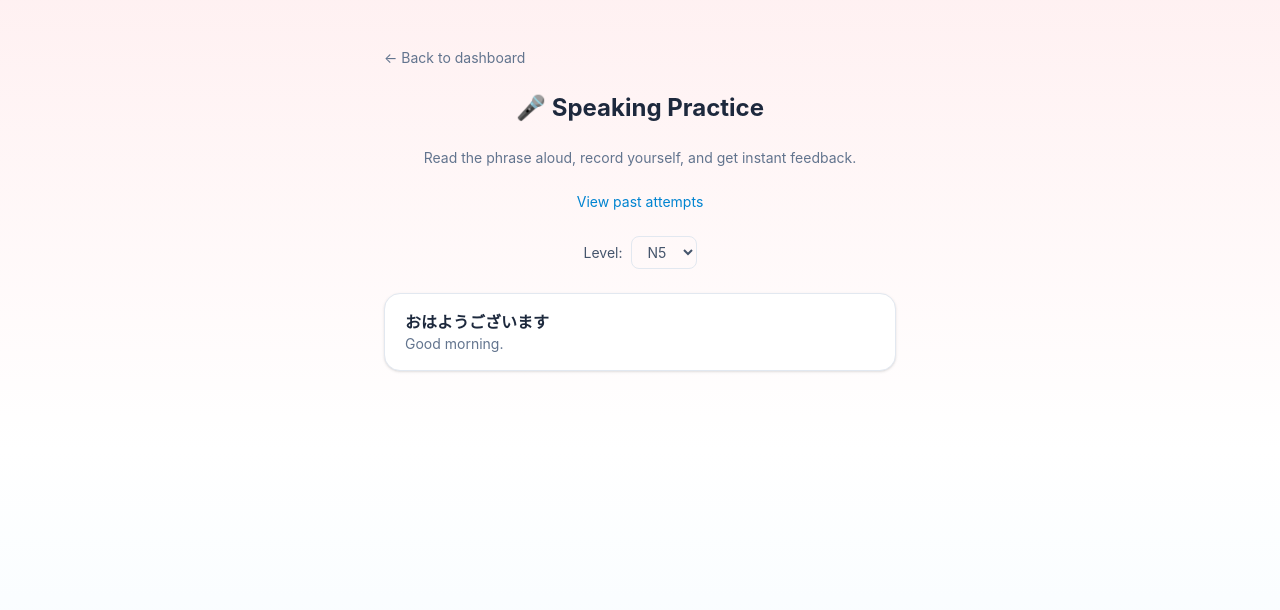
Test: SpeakingPracticePage › shows an error message when submission fails
This screenshot has width=1280, height=610.
Click the text "Good morning.".
click(454, 344)  # box [405,335,504,352]
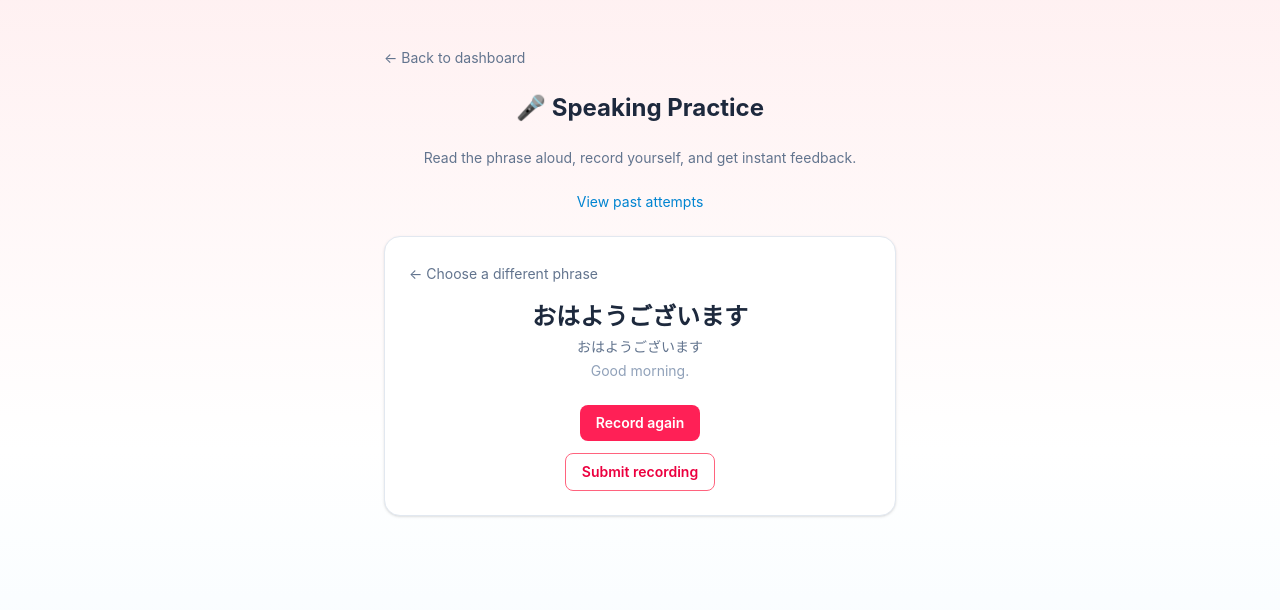
Click the button "Submit recording".
click(640, 472)  # box [565,453,715,491]
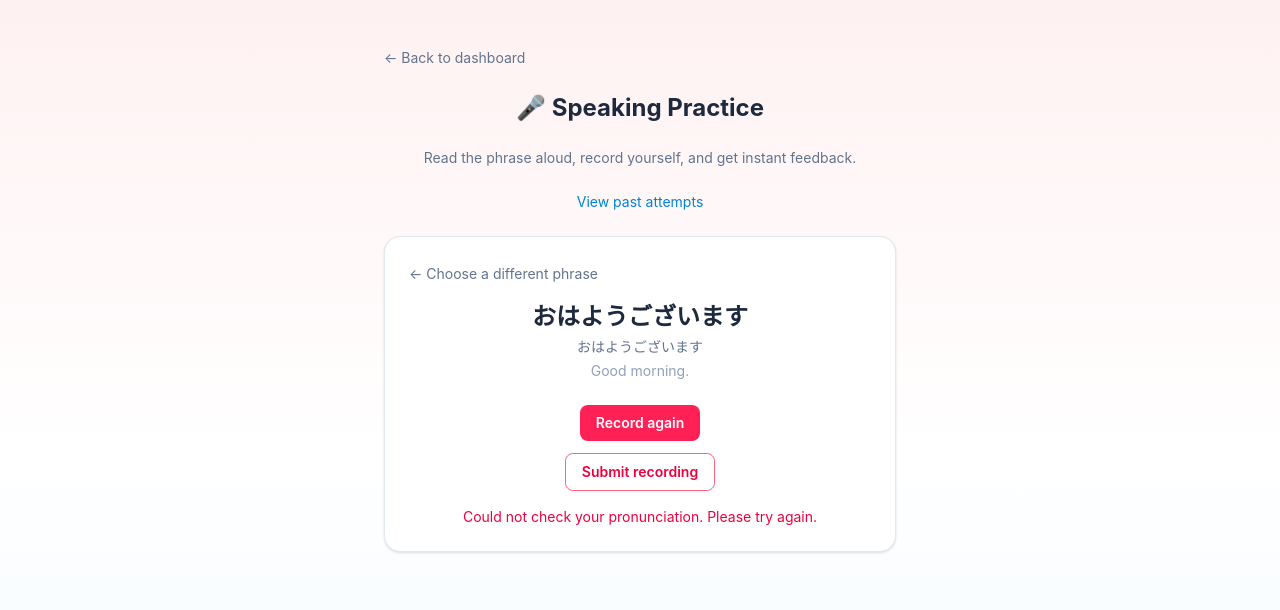
Expected: the text "Could not check your pronunciation. Please try again." is shown, [463,508,817,525]
